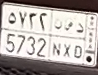2: (36, 12, 48, 58)
3: (27, 12, 38, 55)
5: (5, 12, 17, 53)
7: (16, 11, 28, 54)
D: (73, 22, 84, 59)
N: (52, 18, 63, 57)
X: (63, 21, 73, 57)
